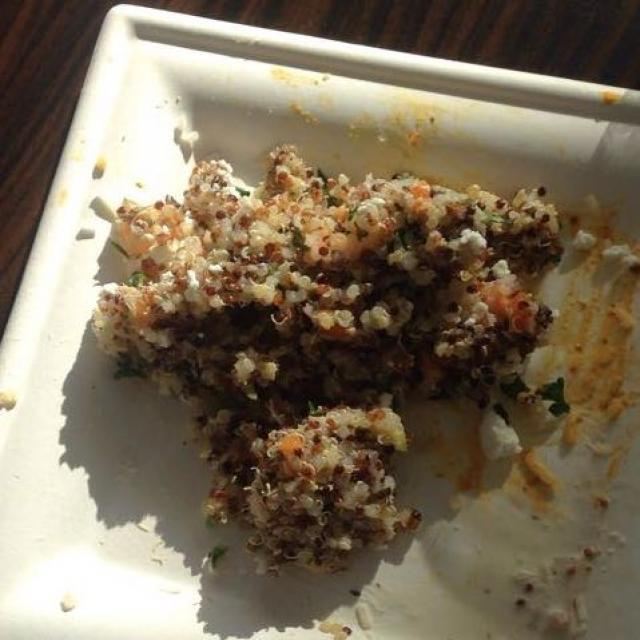quinoa: (104, 158, 614, 562)
